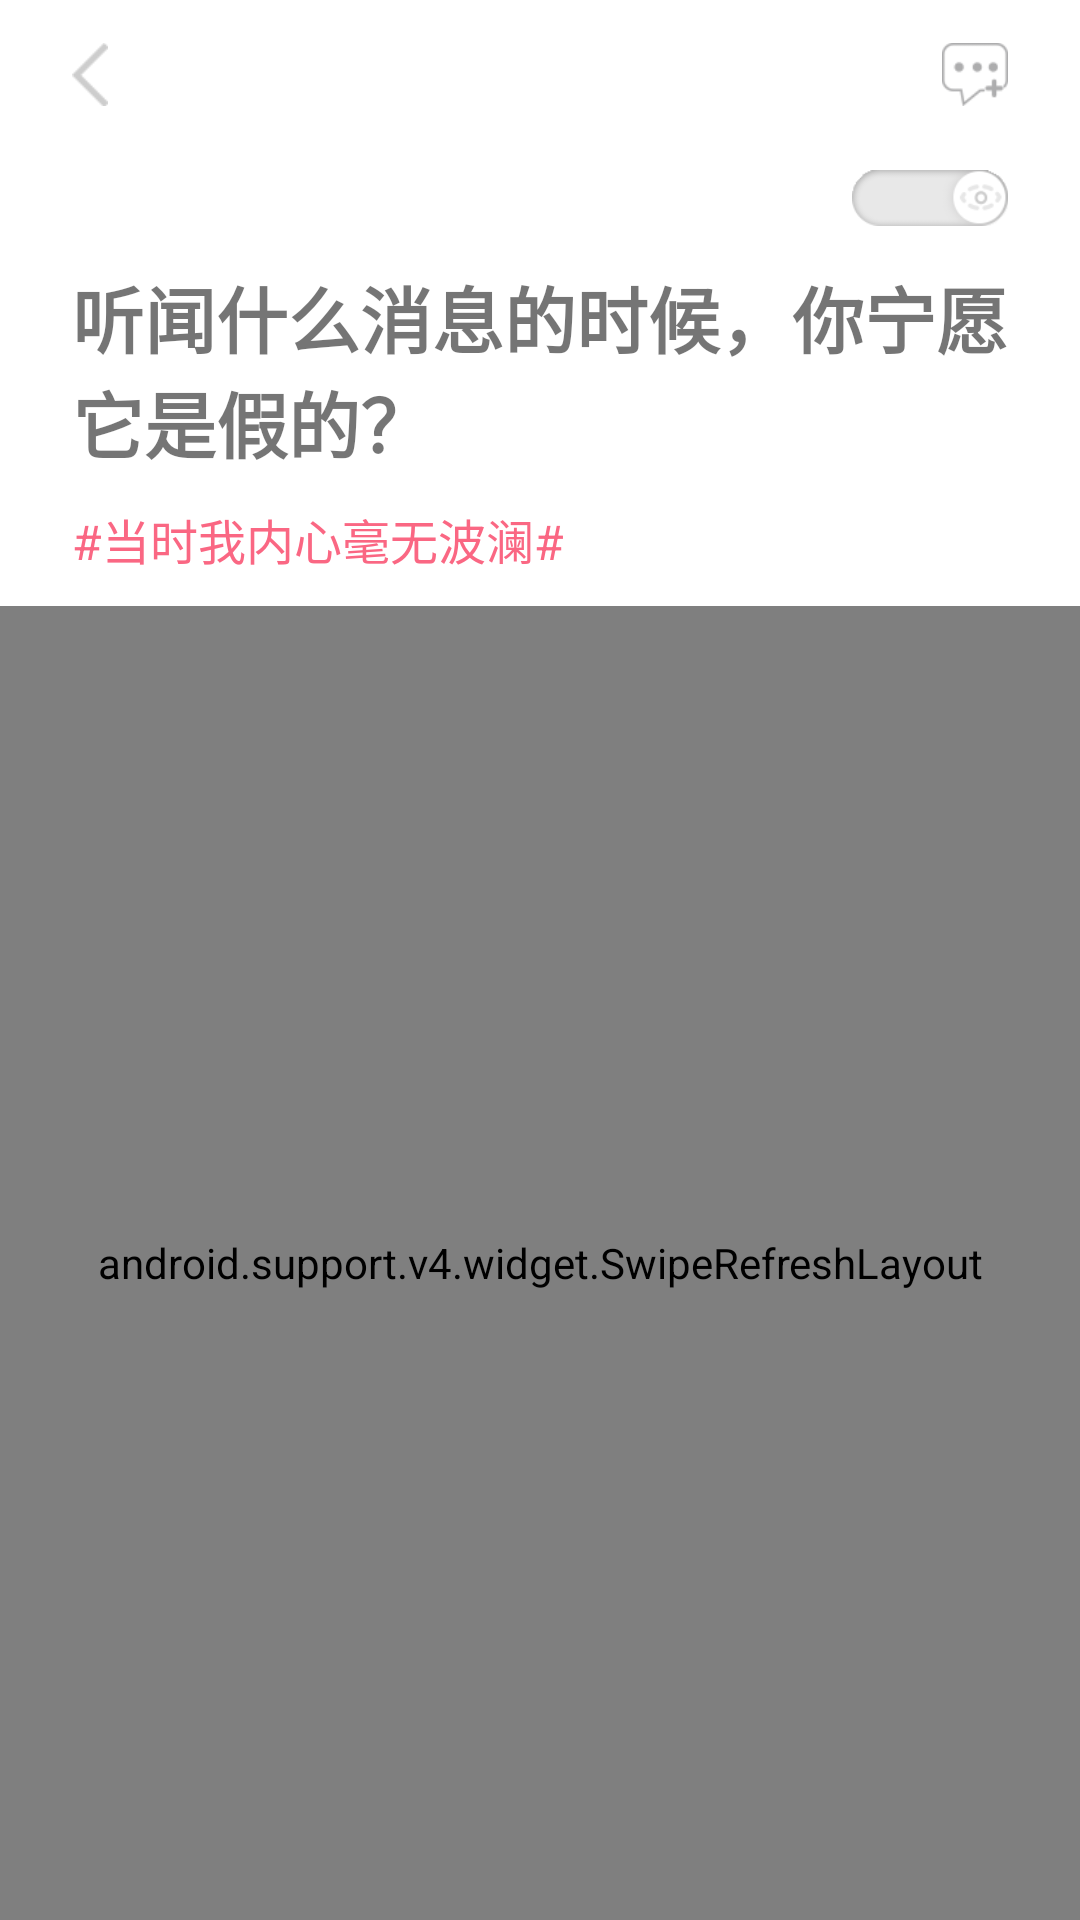

Point at icon controls on the screen. Image size 1080×1920, points as point (x, y).
comment release: point (975, 74)
return release: point (90, 74)
